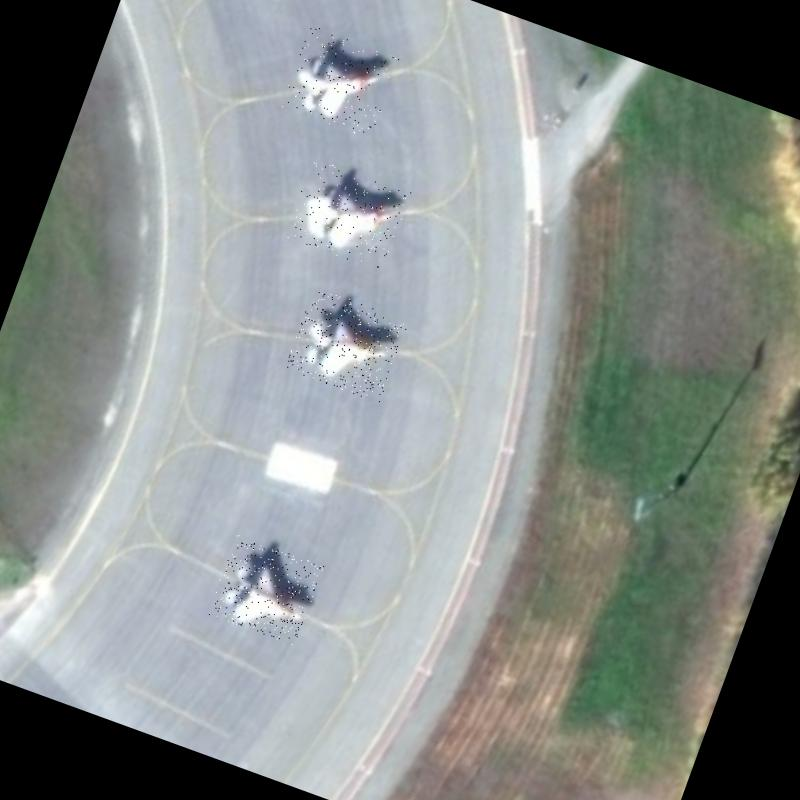A15: (284, 286, 409, 403), (284, 157, 411, 272), (280, 24, 401, 140), (206, 534, 324, 646)
